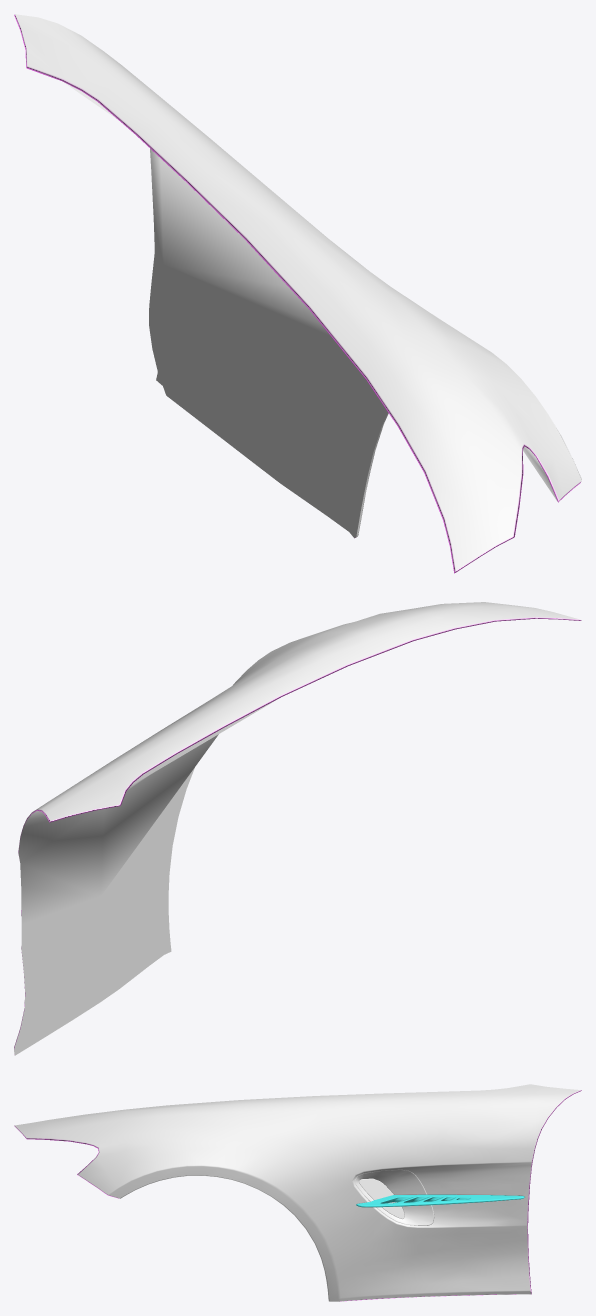
Rendered from Car_MercedesBenz_AMGGT_2015_FenderFL_SetGTR.fbx.
The picture shows the model from 3 angles, top to bottom: view 1: azimuth 30°, elevation 25°; view 2: azimuth 150°, elevation 25°; view 3: azimuth 270°, elevation 25°; orthographic projection. The views are drawn at different scales.
Parts seen in each view (by area): view 1: FenderFL 6; view 2: FenderFL 6; view 3: FenderFL 6.
Part boxes in pixels (<box>): FenderFL 6: <box>14,14,581,573</box>; FenderFL 6: <box>14,602,581,1055</box>; FenderFL 6: <box>14,1084,581,1301</box>.
Size of the model in its own units: 0.3898 by 0.6036 by 1.65.
